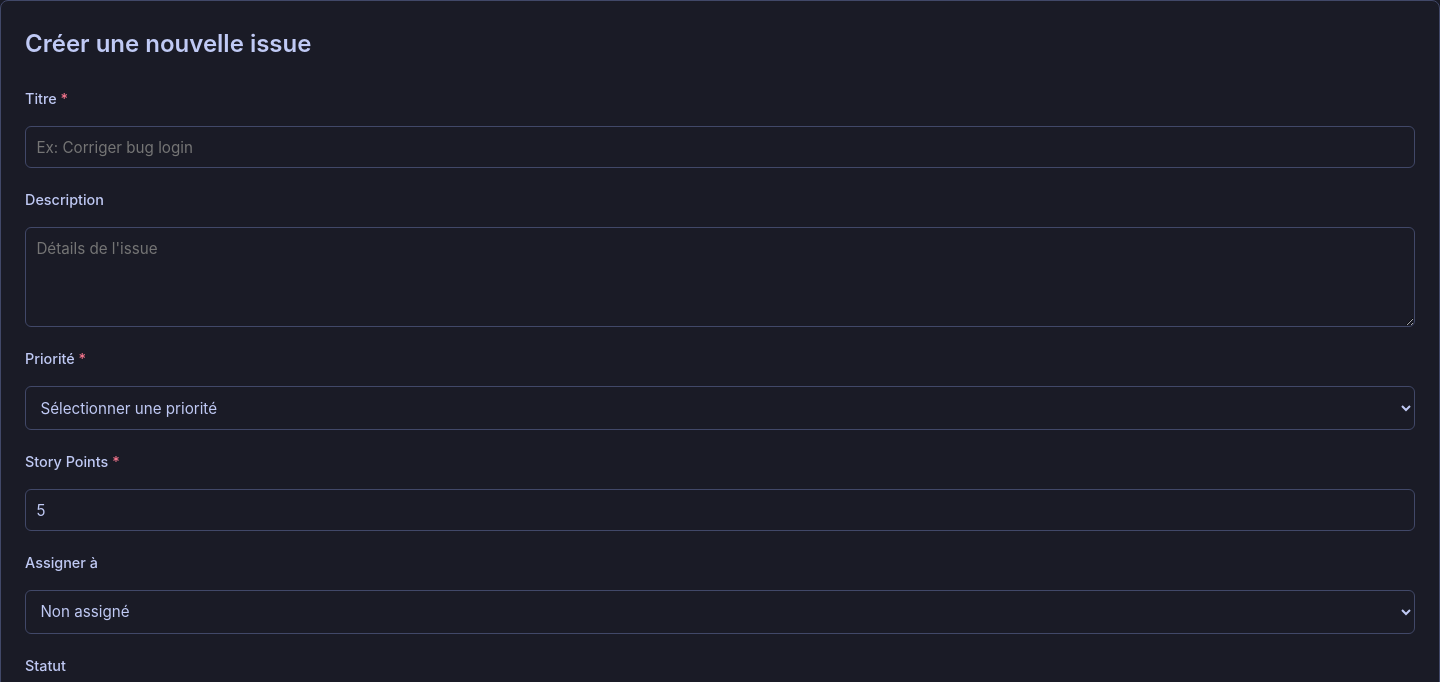
Test: CreateIssueForm › devrait valider que les story points sont valides
Type "Test Issue" into the field named "title". click: (720, 147)
box: [25, 126, 1415, 168]
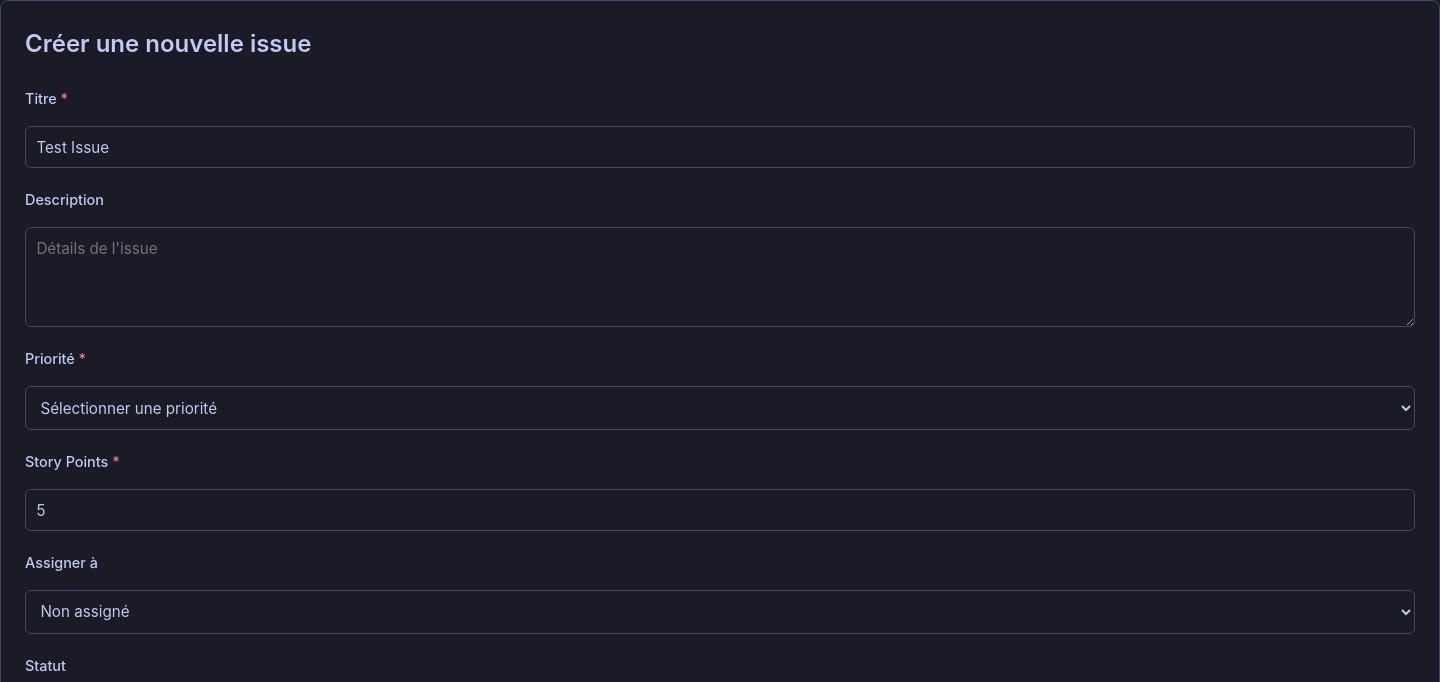
Select "Haute" in the dropdown named "priority". click: (720, 408)
box: [25, 386, 1415, 430]
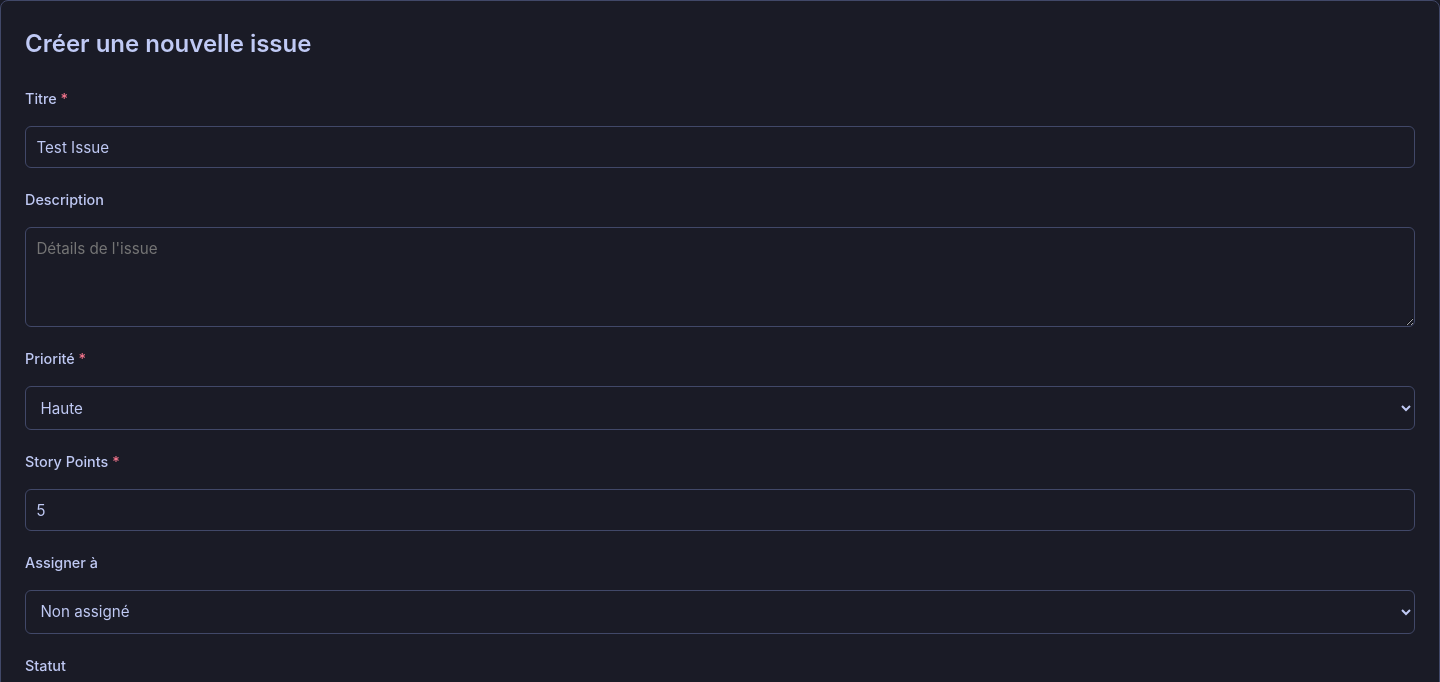
Type "0" into the number field named "storyPoints". click: (720, 510)
box: [25, 489, 1415, 531]
(page scrolled)
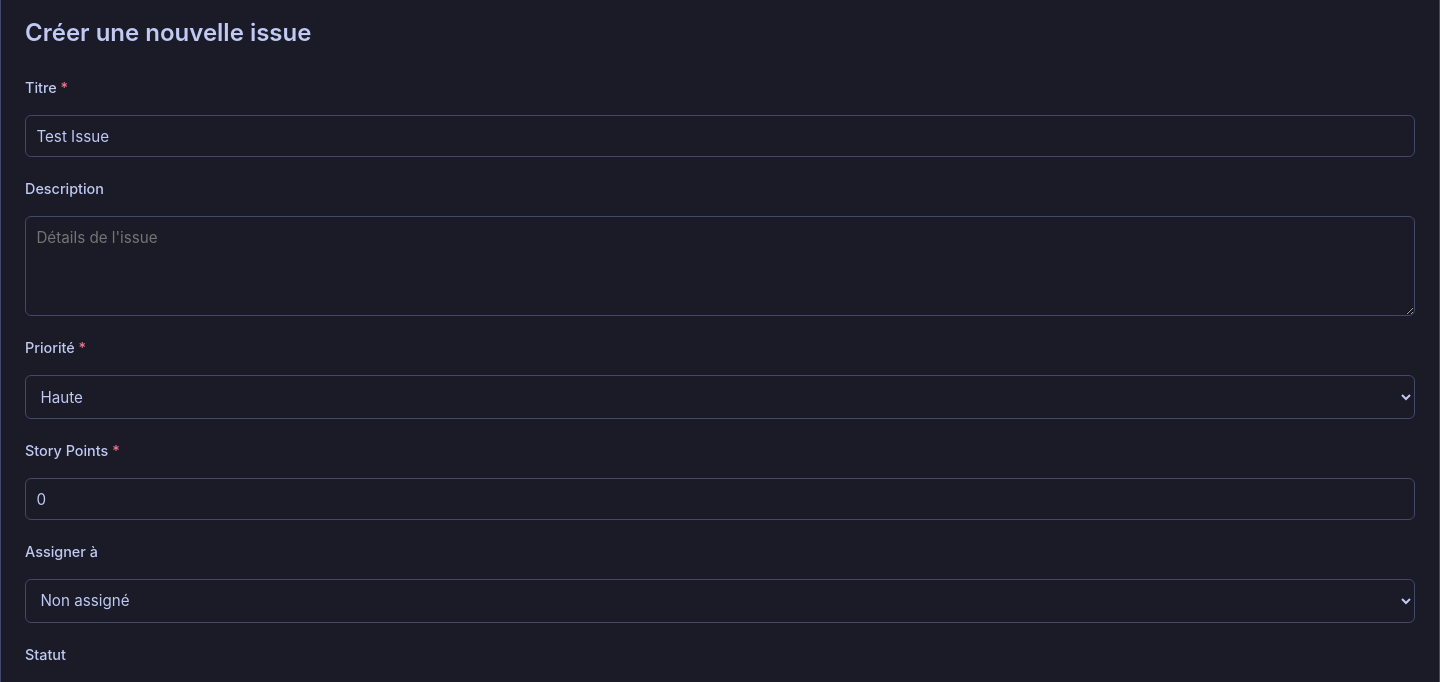
Submit the form
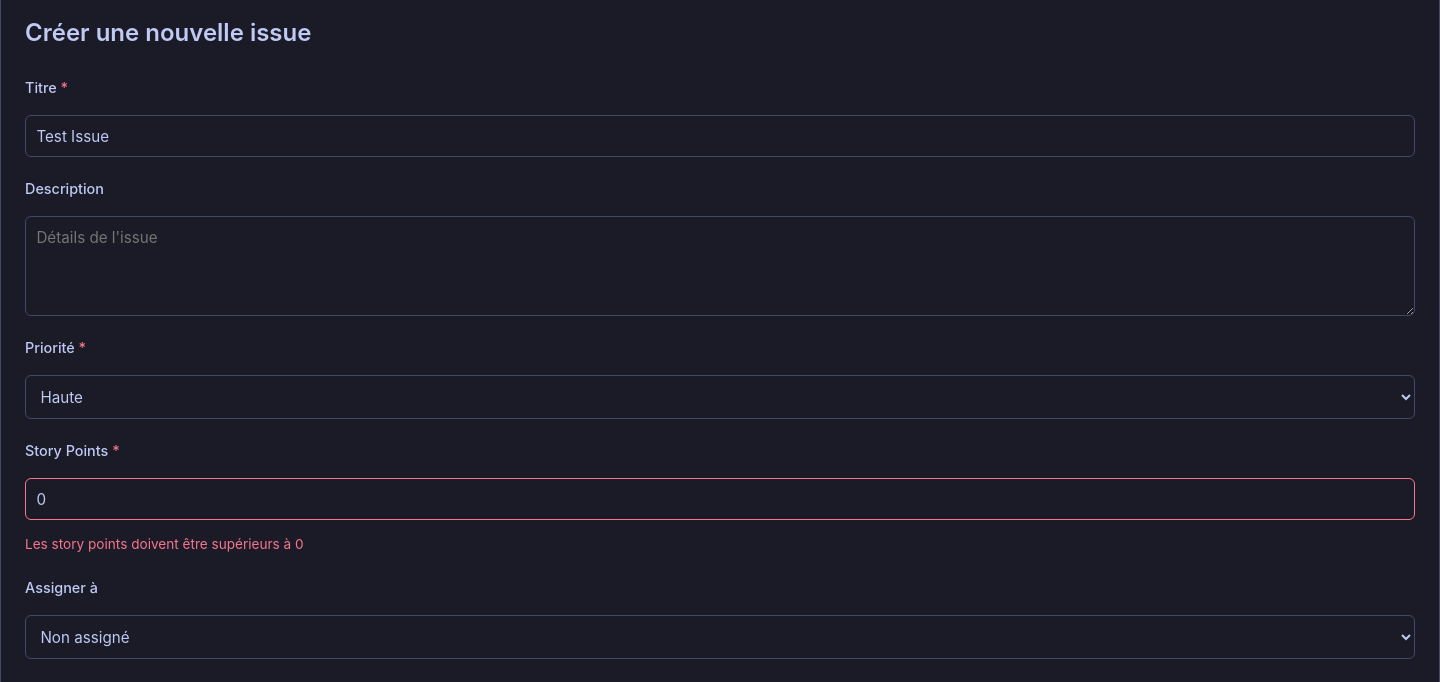
Now the text "Les story points doivent être supérieurs à 0" is shown, box [25, 536, 304, 552]
